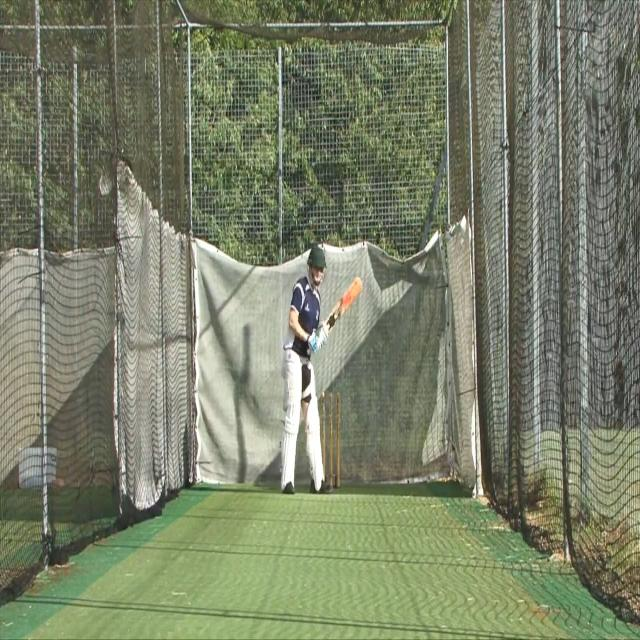batsman: (279, 243, 363, 497)
